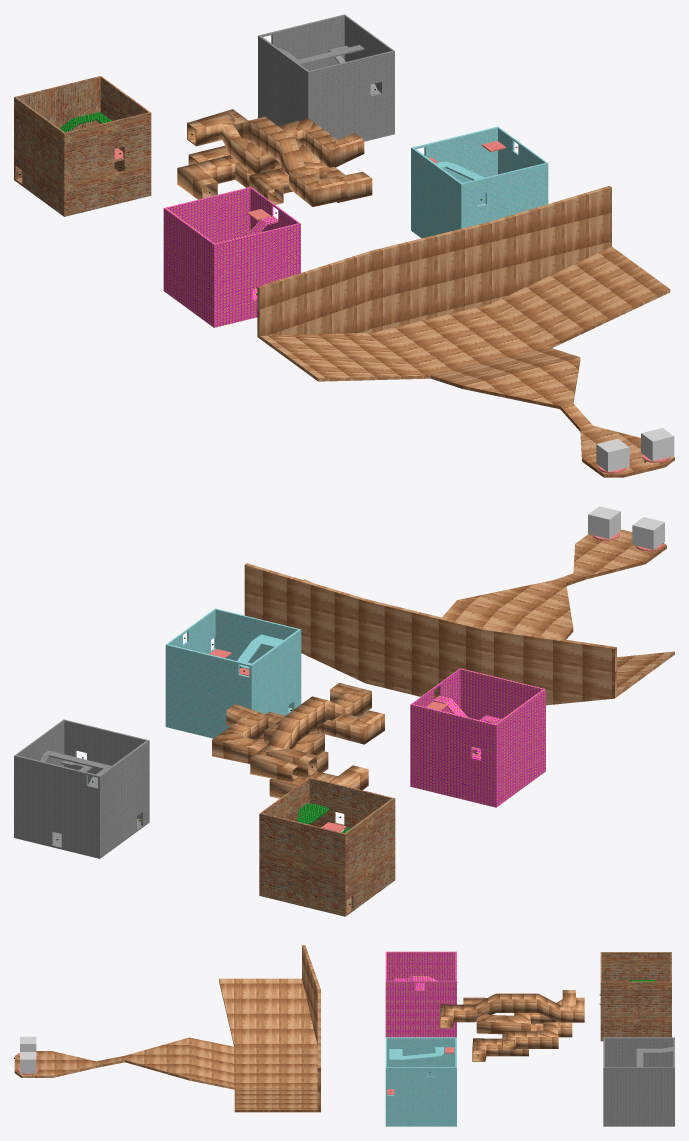
Rendered from Level6.FBX.
The picture shows the model from 3 angles, top to bottom: view 1: azimuth 30°, elevation 25°; view 2: azimuth 150°, elevation 25°; view 3: azimuth 270°, elevation 25°; orthographic projection. The views are drawn at different scales.
Parts seen in each view (by area): view 1: FinalChamber, Chamber1, Chamber4, Chamber2, Chamber3, Tunnel4, Tunnel2, Tunnel1, Tunnel3, TriggerBox_JumpToLevel1, TriggerBox_JumpToLevel7; view 2: FinalChamber, Chamber2, Chamber4, Chamber1, Chamber3, Tunnel1, Tunnel2, Tunnel4, TriggerBox_JumpToLevel7, TriggerBox_JumpToLevel1, Tunnel3; view 3: FinalChamber, Chamber2, Chamber3, Chamber1, Chamber4, Tunnel1, Tunnel4, Tunnel3, Tunnel2, TriggerBox_JumpToLevel7.
Boxes of the visible parts, x1,y1,x2,y2 form: FinalChamber: (257, 186, 674, 477); Chamber1: (14, 76, 151, 216); Chamber4: (163, 187, 300, 327); Chamber2: (258, 14, 394, 141); Chamber3: (411, 126, 548, 238); Tunnel4: (187, 112, 327, 204); Tunnel2: (177, 118, 364, 199); Tunnel1: (193, 109, 347, 206); Tunnel3: (188, 145, 372, 202); TriggerBox_JumpToLevel1: (596, 439, 629, 472); TriggerBox_JumpToLevel7: (641, 428, 674, 461); FinalChamber: (244, 529, 674, 705); Chamber2: (14, 719, 149, 858); Chamber4: (410, 668, 545, 807); Chamber1: (259, 777, 395, 916); Chamber3: (165, 608, 301, 738); Tunnel1: (250, 683, 371, 782); Tunnel2: (212, 704, 368, 790); Tunnel4: (264, 710, 384, 778); TriggerBox_JumpToLevel7: (588, 506, 620, 539); TriggerBox_JumpToLevel1: (632, 517, 664, 549); Tunnel3: (257, 711, 328, 798); FinalChamber: (14, 945, 320, 1112); Chamber2: (603, 1037, 674, 1126); Chamber3: (385, 1037, 456, 1126); Chamber1: (600, 952, 671, 1041); Chamber4: (385, 951, 456, 1037); Tunnel1: (439, 993, 584, 1028); Tunnel4: (463, 990, 575, 1034); Tunnel3: (472, 1021, 572, 1061); Tunnel2: (502, 1022, 558, 1050); TriggerBox_JumpToLevel7: (20, 1052, 36, 1073).
Size of the model in its own units: 352 by 86.82 by 781.
8 materials, 8 textured.
